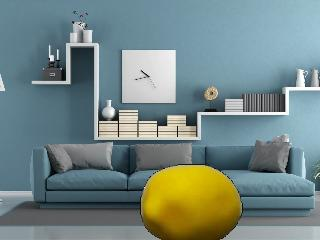lemon: (140, 164, 242, 240)
